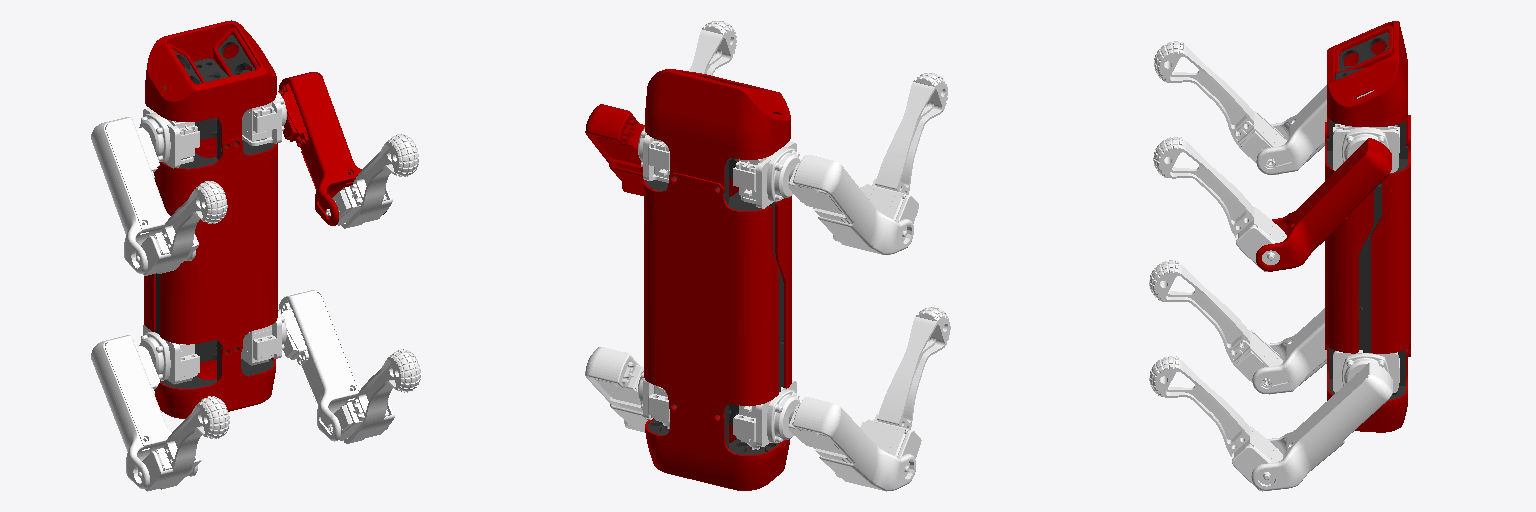
The robot description file, URDF, robot "Clifford_Sim_Model":
<?xml version="1.0" encoding="utf-8"?>
<!-- This URDF was automatically created by SolidWorks to URDF Exporter! Originally created by [author] ([email redacted]) 
     Commit Version: 1.6.0-4-g7f85cfe  Build Version: 1.6.7995.38578
     For more information, please see http://wiki.ros.org/sw_urdf_exporter -->
<robot
  name="Clifford_Sim_Model">
  <link
    name="base_link_chassis">
    <inertial>
      <origin
        xyz="-0.00013721 -0.14572 -0.0079137"
        rpy="0 0 0" />
      <mass
        value="0.2007" />
      <inertia
        ixx="0.000165"
        ixy="-5.8297E-11"
        ixz="-4.3849E-12"
        iyy="0.00020904"
        iyz="8.0309E-07"
        izz="0.00019045" />
    </inertial>
    <visual>
      <origin
        xyz="0 0 0"
        rpy="0 0 0" />
      <geometry>
        <mesh
          filename="package://Clifford_Sim_Model/meshes/base_link_chassis.STL" />
      </geometry>
      <material
        name="">
        <color
          rgba="0.25098 0.25098 0.25098 1" />
      </material>
    </visual>
    <collision>
      <origin
        xyz="0 0 0"
        rpy="0 0 0" />
      <geometry>
        <mesh
          filename="package://Clifford_Sim_Model/meshes/base_link_chassis.STL" />
      </geometry>
    </collision>
  </link>
  <link
    name="base_link_cover">
    <inertial>
      <origin
        xyz="-0.09357 0.056878 0.032799"
        rpy="0 0 0" />
      <mass
        value="0.19276" />
      <inertia
        ixx="0.0003261"
        ixy="-3.5297E-07"
        ixz="1.3201E-05"
        iyy="0.00040218"
        iyz="5.2351E-07"
        izz="0.00059517" />
    </inertial>
    <visual>
      <origin
        xyz="0 0 0"
        rpy="0 0 0" />
      <geometry>
        <mesh
          filename="package://Clifford_Sim_Model/meshes/base_link_cover.STL" />
      </geometry>
      <material
        name="">
        <color
          rgba="0.75294 0 0 1" />
      </material>
    </visual>
    <collision>
      <origin
        xyz="0 0 0"
        rpy="0 0 0" />
      <geometry>
        <mesh
          filename="package://Clifford_Sim_Model/meshes/base_link_cover.STL" />
      </geometry>
    </collision>
  </link>
  <joint
    name="base_joint_cover"
    type="fixed">
    <origin
      xyz="0.056865 0.038681 -0.049081"
      rpy="1.5708 -1.5708 0" />
    <parent
      link="base_link_chassis" />
    <child
      link="base_link_cover" />
    <axis
      xyz="0 0 0" />
  </joint>
  <link
    name="front_left_shoulder-link">
    <inertial>
      <origin
        xyz="0.010166 -0.0052586 0.027632"
        rpy="0 0 0" />
      <mass
        value="0.060451" />
      <inertia
        ixx="1.1321E-05"
        ixy="5.0733E-08"
        ixz="-1.2881E-08"
        iyy="1.9727E-05"
        iyz="-4.6406E-07"
        izz="1.5056E-05" />
    </inertial>
    <visual>
      <origin
        xyz="0 0 0"
        rpy="0 0 0" />
      <geometry>
        <mesh
          filename="package://Clifford_Sim_Model/meshes/front_left_shoulder-link.STL" />
      </geometry>
      <material
        name="">
        <color
          rgba="1 1 1 0.35" />
      </material>
    </visual>
    <collision>
      <origin
        xyz="0 0 0"
        rpy="0 0 0" />
      <geometry>
        <mesh
          filename="package://Clifford_Sim_Model/meshes/front_left_shoulder-link.STL" />
      </geometry>
    </collision>
  </link>
  <joint
    name="front_left_shoulder-joint"
    type="continuous">
    <origin
      xyz="0.038858 0.012792 -0.01944"
      rpy="3.1416 0 -1.5708" />
    <parent
      link="base_link_chassis" />
    <child
      link="front_left_shoulder-link" />
    <axis
      xyz="0 0 -1" />
  </joint>
  <link
    name="front_left_arm-link">
    <inertial>
      <origin
        xyz="-0.0015824 0.032303 0.037666"
        rpy="0 0 0" />
      <mass
        value="0.11486" />
      <inertia
        ixx="0.00010977"
        ixy="7.3672E-07"
        ixz="-1.6714E-06"
        iyy="0.00010318"
        iyz="-6.5622E-07"
        izz="1.9622E-05" />
    </inertial>
    <visual>
      <origin
        xyz="0 0 0"
        rpy="0 0 0" />
      <geometry>
        <mesh
          filename="package://Clifford_Sim_Model/meshes/front_left_arm-link.STL" />
      </geometry>
      <material
        name="">
        <color
          rgba="0.75294 0 0 1" />
      </material>
    </visual>
    <collision>
      <origin
        xyz="0 0 0"
        rpy="0 0 0" />
      <geometry>
        <mesh
          filename="package://Clifford_Sim_Model/meshes/front_left_arm-link.STL" />
      </geometry>
    </collision>
  </link>
  <joint
    name="front_left_arm-joint"
    type="continuous">
    <origin
      xyz="0.01075 -0.02312 0.02855"
      rpy="0 -0.73304 3.1416" />
    <parent
      link="front_left_shoulder-link" />
    <child
      link="front_left_arm-link" />
    <axis
      xyz="0 -1 0" />
  </joint>
  <link
    name="front_left_wrist-link">
    <inertial>
      <origin
        xyz="0.034329 -0.00062696 -0.027738"
        rpy="0 0 0" />
      <mass
        value="0.066564" />
      <inertia
        ixx="1.0483E-05"
        ixy="-3.7201E-06"
        ixz="-3.2253E-06"
        iyy="7.3831E-05"
        iyz="-2.9585E-07"
        izz="7.1037E-05" />
    </inertial>
    <visual>
      <origin
        xyz="0 0 0"
        rpy="0 0 0" />
      <geometry>
        <mesh
          filename="package://Clifford_Sim_Model/meshes/front_left_wrist-link.STL" />
      </geometry>
      <material
        name="">
        <color
          rgba="1 1 1 0.35" />
      </material>
    </visual>
    <collision>
      <origin
        xyz="0 0 0"
        rpy="0 0 0" />
      <geometry>
        <mesh
          filename="package://Clifford_Sim_Model/meshes/front_left_wrist-link.STL" />
      </geometry>
    </collision>
  </link>
  <joint
    name="front_left_wrist-joint"
    type="continuous">
    <origin
      xyz="-0.013829 0.00725 0.10612"
      rpy="-1.5708 0.05236 3.1416" />
    <parent
      link="front_left_arm-link" />
    <child
      link="front_left_wrist-link" />
    <axis
      xyz="0 0 1" />
  </joint>
  <link
    name="front_right_shoulder-link">
    <inertial>
      <origin
        xyz="0.010166 0.0052586 0.027632"
        rpy="0 0 0" />
      <mass
        value="0.060451" />
      <inertia
        ixx="1.1321E-05"
        ixy="-5.0733E-08"
        ixz="-1.2881E-08"
        iyy="1.9727E-05"
        iyz="4.6406E-07"
        izz="1.5056E-05" />
    </inertial>
    <visual>
      <origin
        xyz="0 0 0"
        rpy="0 0 0" />
      <geometry>
        <mesh
          filename="package://Clifford_Sim_Model/meshes/front_right_shoulder-link.STL" />
      </geometry>
      <material
        name="">
        <color
          rgba="1 1 1 0.35" />
      </material>
    </visual>
    <collision>
      <origin
        xyz="0 0 0"
        rpy="0 0 0" />
      <geometry>
        <mesh
          filename="package://Clifford_Sim_Model/meshes/front_right_shoulder-link.STL" />
      </geometry>
    </collision>
  </link>
  <joint
    name="front_right_shoulder-joint"
    type="continuous">
    <origin
      xyz="-0.039143 0.012792 -0.01944"
      rpy="3.1416 0 -1.5708" />
    <parent
      link="base_link_chassis" />
    <child
      link="front_right_shoulder-link" />
    <axis
      xyz="0 0 -1" />
  </joint>
  <link
    name="front_right_arm-link">
    <inertial>
      <origin
        xyz="0.037666 -0.0015824 -0.03221"
        rpy="0 0 0" />
      <mass
        value="0.11486" />
      <inertia
        ixx="1.9622E-05"
        ixy="-1.6714E-06"
        ixz="6.5622E-07"
        iyy="0.00010977"
        iyz="-7.3672E-07"
        izz="0.00010318" />
    </inertial>
    <visual>
      <origin
        xyz="0 0 0"
        rpy="0 0 0" />
      <geometry>
        <mesh
          filename="package://Clifford_Sim_Model/meshes/front_right_arm-link.STL" />
      </geometry>
      <material
        name="">
        <color
          rgba="1 1 1 0.35" />
      </material>
    </visual>
    <collision>
      <origin
        xyz="0 0 0"
        rpy="0 0 0" />
      <geometry>
        <mesh
          filename="package://Clifford_Sim_Model/meshes/front_right_arm-link.STL" />
      </geometry>
    </collision>
  </link>
  <joint
    name="front_right_arm-joint"
    type="continuous">
    <origin
      xyz="0.01075 0.02312 0.02855"
      rpy="1.5708 -0.83776 0" />
    <parent
      link="front_right_shoulder-link" />
    <child
      link="front_right_arm-link" />
    <axis
      xyz="0 0 1" />
  </joint>
  <link
    name="front_right_wrist-link">
    <inertial>
      <origin
        xyz="0.034302 0.00061771 -0.02774"
        rpy="0 0 0" />
      <mass
        value="0.066564" />
      <inertia
        ixx="1.0483E-05"
        ixy="3.7201E-06"
        ixz="-3.2253E-06"
        iyy="7.3831E-05"
        iyz="2.9585E-07"
        izz="7.1037E-05" />
    </inertial>
    <visual>
      <origin
        xyz="0 0 0"
        rpy="0 0 0" />
      <geometry>
        <mesh
          filename="package://Clifford_Sim_Model/meshes/front_right_wrist-link.STL" />
      </geometry>
      <material
        name="">
        <color
          rgba="1 1 1 0.35" />
      </material>
    </visual>
    <collision>
      <origin
        xyz="0 0 0"
        rpy="0 0 0" />
      <geometry>
        <mesh
          filename="package://Clifford_Sim_Model/meshes/front_right_wrist-link.STL" />
      </geometry>
    </collision>
  </link>
  <joint
    name="front_right_wrist-joint"
    type="continuous">
    <origin
      xyz="0.10612 -0.013829 -0.00725"
      rpy="0 0 -1.6232" />
    <parent
      link="front_right_arm-link" />
    <child
      link="front_right_wrist-link" />
    <axis
      xyz="0 0 1" />
  </joint>
  <link
    name="rear_left_shoulder-link">
    <inertial>
      <origin
        xyz="0.010166 -0.0052586 0.026693"
        rpy="0 0 0" />
      <mass
        value="0.060451" />
      <inertia
        ixx="1.1321E-05"
        ixy="5.0733E-08"
        ixz="1.2881E-08"
        iyy="1.9727E-05"
        iyz="4.6406E-07"
        izz="1.5056E-05" />
    </inertial>
    <visual>
      <origin
        xyz="0 0 0"
        rpy="0 0 0" />
      <geometry>
        <mesh
          filename="package://Clifford_Sim_Model/meshes/rear_left_shoulder-link.STL" />
      </geometry>
      <material
        name="">
        <color
          rgba="1 1 1 0.35" />
      </material>
    </visual>
    <collision>
      <origin
        xyz="0 0 0"
        rpy="0 0 0" />
      <geometry>
        <mesh
          filename="package://Clifford_Sim_Model/meshes/rear_left_shoulder-link.STL" />
      </geometry>
    </collision>
  </link>
  <joint
    name="rear_left_shoulder-joint"
    type="continuous">
    <origin
      xyz="0.038862 0.012792 -0.23441"
      rpy="3.1416 0 -1.5708" />
    <parent
      link="base_link_chassis" />
    <child
      link="rear_left_shoulder-link" />
    <axis
      xyz="0 0 -1" />
  </joint>
  <link
    name="rear_left_arm-link">
    <inertial>
      <origin
        xyz="0.037666 0.0015824 -0.032303"
        rpy="0 0 0" />
      <mass
        value="0.11486" />
      <inertia
        ixx="1.9622E-05"
        ixy="1.6714E-06"
        ixz="6.5622E-07"
        iyy="0.00010977"
        iyz="7.3672E-07"
        izz="0.00010318" />
    </inertial>
    <visual>
      <origin
        xyz="0 0 0"
        rpy="0 0 0" />
      <geometry>
        <mesh
          filename="package://Clifford_Sim_Model/meshes/rear_left_arm-link.STL" />
      </geometry>
      <material
        name="">
        <color
          rgba="1 1 1 0.35" />
      </material>
    </visual>
    <collision>
      <origin
        xyz="0 0 0"
        rpy="0 0 0" />
      <geometry>
        <mesh
          filename="package://Clifford_Sim_Model/meshes/rear_left_arm-link.STL" />
      </geometry>
    </collision>
  </link>
  <joint
    name="rear_left_arm-joint"
    type="continuous">
    <origin
      xyz="0.01075 -0.02312 0.025775"
      rpy="-1.5708 -0.7854 0" />
    <parent
      link="rear_left_shoulder-link" />
    <child
      link="rear_left_arm-link" />
    <axis
      xyz="0 0 1" />
  </joint>
  <link
    name="rear_left_wrist-link">
    <inertial>
      <origin
        xyz="0.034325 -0.00062523 -0.027736"
        rpy="0 0 0" />
      <mass
        value="0.066564" />
      <inertia
        ixx="1.0483E-05"
        ixy="-3.7201E-06"
        ixz="-3.2253E-06"
        iyy="7.3831E-05"
        iyz="-2.9585E-07"
        izz="7.1037E-05" />
    </inertial>
    <visual>
      <origin
        xyz="0 0 0"
        rpy="0 0 0" />
      <geometry>
        <mesh
          filename="package://Clifford_Sim_Model/meshes/rear_left_wrist-link.STL" />
      </geometry>
      <material
        name="">
        <color
          rgba="1 1 1 0.35" />
      </material>
    </visual>
    <collision>
      <origin
        xyz="0 0 0"
        rpy="0 0 0" />
      <geometry>
        <mesh
          filename="package://Clifford_Sim_Model/meshes/rear_left_wrist-link.STL" />
      </geometry>
    </collision>
  </link>
  <joint
    name="rear_left_wrist-joint"
    type="continuous">
    <origin
      xyz="0.10612 0.013829 -0.00725"
      rpy="0 0 1.5708" />
    <parent
      link="rear_left_arm-link" />
    <child
      link="rear_left_wrist-link" />
    <axis
      xyz="0 0 1" />
  </joint>
  <link
    name="rear_right_shoulder-link">
    <inertial>
      <origin
        xyz="0.010166 0.0052586 0.026693"
        rpy="0 0 0" />
      <mass
        value="0.060451" />
      <inertia
        ixx="1.1321E-05"
        ixy="-5.0733E-08"
        ixz="1.2881E-08"
        iyy="1.9727E-05"
        iyz="-4.6406E-07"
        izz="1.5056E-05" />
    </inertial>
    <visual>
      <origin
        xyz="0 0 0"
        rpy="0 0 0" />
      <geometry>
        <mesh
          filename="package://Clifford_Sim_Model/meshes/rear_right_shoulder-link.STL" />
      </geometry>
      <material
        name="">
        <color
          rgba="1 1 1 0.35" />
      </material>
    </visual>
    <collision>
      <origin
        xyz="0 0 0"
        rpy="0 0 0" />
      <geometry>
        <mesh
          filename="package://Clifford_Sim_Model/meshes/rear_right_shoulder-link.STL" />
      </geometry>
    </collision>
  </link>
  <joint
    name="rear_right_shoulder-joint"
    type="continuous">
    <origin
      xyz="-0.039139 0.012792 -0.23441"
      rpy="3.1416 0 -1.5708" />
    <parent
      link="base_link_chassis" />
    <child
      link="rear_right_shoulder-link" />
    <axis
      xyz="0 0 -1" />
  </joint>
  <link
    name="rear_right_arm-link">
    <inertial>
      <origin
        xyz="0.037666 -0.0015824 -0.03221"
        rpy="0 0 0" />
      <mass
        value="0.11486" />
      <inertia
        ixx="1.9622E-05"
        ixy="-1.6714E-06"
        ixz="6.5622E-07"
        iyy="0.00010977"
        iyz="-7.3672E-07"
        izz="0.00010318" />
    </inertial>
    <visual>
      <origin
        xyz="0 0 0"
        rpy="0 0 0" />
      <geometry>
        <mesh
          filename="package://Clifford_Sim_Model/meshes/rear_right_arm-link.STL" />
      </geometry>
      <material
        name="">
        <color
          rgba="1 1 1 0.35" />
      </material>
    </visual>
    <collision>
      <origin
        xyz="0 0 0"
        rpy="0 0 0" />
      <geometry>
        <mesh
          filename="package://Clifford_Sim_Model/meshes/rear_right_arm-link.STL" />
      </geometry>
    </collision>
  </link>
  <joint
    name="rear_right_arm-joint"
    type="continuous">
    <origin
      xyz="0.01075 0.02312 0.025775"
      rpy="1.5708 -0.7854 0" />
    <parent
      link="rear_right_shoulder-link" />
    <child
      link="rear_right_arm-link" />
    <axis
      xyz="0 0 1" />
  </joint>
  <link
    name="rear_right_wrist-link">
    <inertial>
      <origin
        xyz="0.034328 0.00062643 -0.027737"
        rpy="0 0 0" />
      <mass
        value="0.066564" />
      <inertia
        ixx="1.0483E-05"
        ixy="3.7201E-06"
        ixz="-3.2253E-06"
        iyy="7.3831E-05"
        iyz="2.9585E-07"
        izz="7.1037E-05" />
    </inertial>
    <visual>
      <origin
        xyz="0 0 0"
        rpy="0 0 0" />
      <geometry>
        <mesh
          filename="package://Clifford_Sim_Model/meshes/rear_right_wrist-link.STL" />
      </geometry>
      <material
        name="">
        <color
          rgba="1 1 1 0.35" />
      </material>
    </visual>
    <collision>
      <origin
        xyz="0 0 0"
        rpy="0 0 0" />
      <geometry>
        <mesh
          filename="package://Clifford_Sim_Model/meshes/rear_right_wrist-link.STL" />
      </geometry>
    </collision>
  </link>
  <joint
    name="rear_right_wrist-joint"
    type="continuous">
    <origin
      xyz="0.10612 -0.013829 -0.00725"
      rpy="0 0 -1.5708" />
    <parent
      link="rear_right_arm-link" />
    <child
      link="rear_right_wrist-link" />
    <axis
      xyz="0 0 1" />
  </joint>
</robot>

--- What the picture shows (computed from the rendered views, not written in the file) ---
Views: 3 orthographic renders of the robot side by side, from view 1: azimuth 30°, elevation 25°; view 2: azimuth 150°, elevation 25°; view 3: azimuth 270°, elevation 25°.
Robot: Clifford_Sim_Model — 14 links, 13 joints (12 continuous, 1 fixed); root link base_link_chassis; default pose: all joints at 0.
Links seen in each view (by area): view 1: base_link_cover, front_right_arm-link, rear_right_arm-link, front_left_arm-link, rear_left_arm-link, base_link_chassis, front_left_wrist-link, rear_left_wrist-link, rear_right_wrist-link, front_right_wrist-link, front_right_shoulder-link, rear_right_shoulder-link (+2 smaller); view 2: base_link_cover, front_right_arm-link, rear_right_arm-link, rear_right_wrist-link, front_right_wrist-link, front_left_arm-link, rear_left_arm-link, front_right_shoulder-link, rear_right_shoulder-link, base_link_chassis, front_left_wrist-link, front_left_shoulder-link (+1 smaller); view 3: base_link_cover, rear_left_arm-link, front_left_arm-link, rear_left_wrist-link, front_left_wrist-link, rear_right_wrist-link, front_right_wrist-link, base_link_chassis, rear_right_arm-link, front_right_arm-link, front_left_shoulder-link, rear_left_shoulder-link.
Boxes of the visible links, left/top/right/bottom form: base_link_cover: left=144, top=20, right=277, bottom=418; front_right_arm-link: left=91, top=117, right=195, bottom=273; rear_right_arm-link: left=91, top=335, right=197, bottom=488; front_left_arm-link: left=278, top=72, right=386, bottom=225; rear_left_arm-link: left=278, top=290, right=388, bottom=441; base_link_chassis: left=155, top=35, right=274, bottom=388; front_left_wrist-link: left=326, top=134, right=418, bottom=228; rear_left_wrist-link: left=328, top=349, right=420, bottom=443; rear_right_wrist-link: left=138, top=396, right=229, bottom=491; front_right_wrist-link: left=136, top=181, right=227, bottom=275; front_right_shoulder-link: left=139, top=108, right=199, bottom=168; rear_right_shoulder-link: left=139, top=325, right=199, bottom=384; base_link_cover: left=644, top=69, right=791, bottom=490; front_right_arm-link: left=788, top=155, right=913, bottom=254; rear_right_arm-link: left=788, top=397, right=915, bottom=491; rear_right_wrist-link: left=860, top=307, right=950, bottom=476; front_right_wrist-link: left=860, top=73, right=947, bottom=241; front_left_arm-link: left=585, top=104, right=644, bottom=195; rear_left_arm-link: left=585, top=347, right=649, bottom=432; front_right_shoulder-link: left=733, top=141, right=800, bottom=208; rear_right_shoulder-link: left=733, top=380, right=800, bottom=449; base_link_chassis: left=646, top=158, right=783, bottom=454; front_left_wrist-link: left=689, top=21, right=736, bottom=75; front_left_shoulder-link: left=638, top=127, right=669, bottom=182; base_link_cover: left=1325, top=21, right=1410, bottom=432; rear_left_arm-link: left=1251, top=362, right=1392, bottom=490; front_left_arm-link: left=1256, top=138, right=1391, bottom=271; rear_left_wrist-link: left=1149, top=356, right=1282, bottom=491; front_left_wrist-link: left=1153, top=137, right=1286, bottom=271; rear_right_wrist-link: left=1149, top=260, right=1282, bottom=394; front_right_wrist-link: left=1154, top=41, right=1286, bottom=174; base_link_chassis: left=1327, top=32, right=1407, bottom=399; rear_right_arm-link: left=1252, top=308, right=1326, bottom=393; front_right_arm-link: left=1256, top=85, right=1326, bottom=174; front_left_shoulder-link: left=1333, top=124, right=1399, bottom=172; rear_left_shoulder-link: left=1333, top=350, right=1399, bottom=392.
Size in the robot's own frame: 0.2498 by 0.2245 by 0.3787 metres.
Meshes: 14 distinct files referenced, 14 mesh visuals loaded (14 binary STL).
